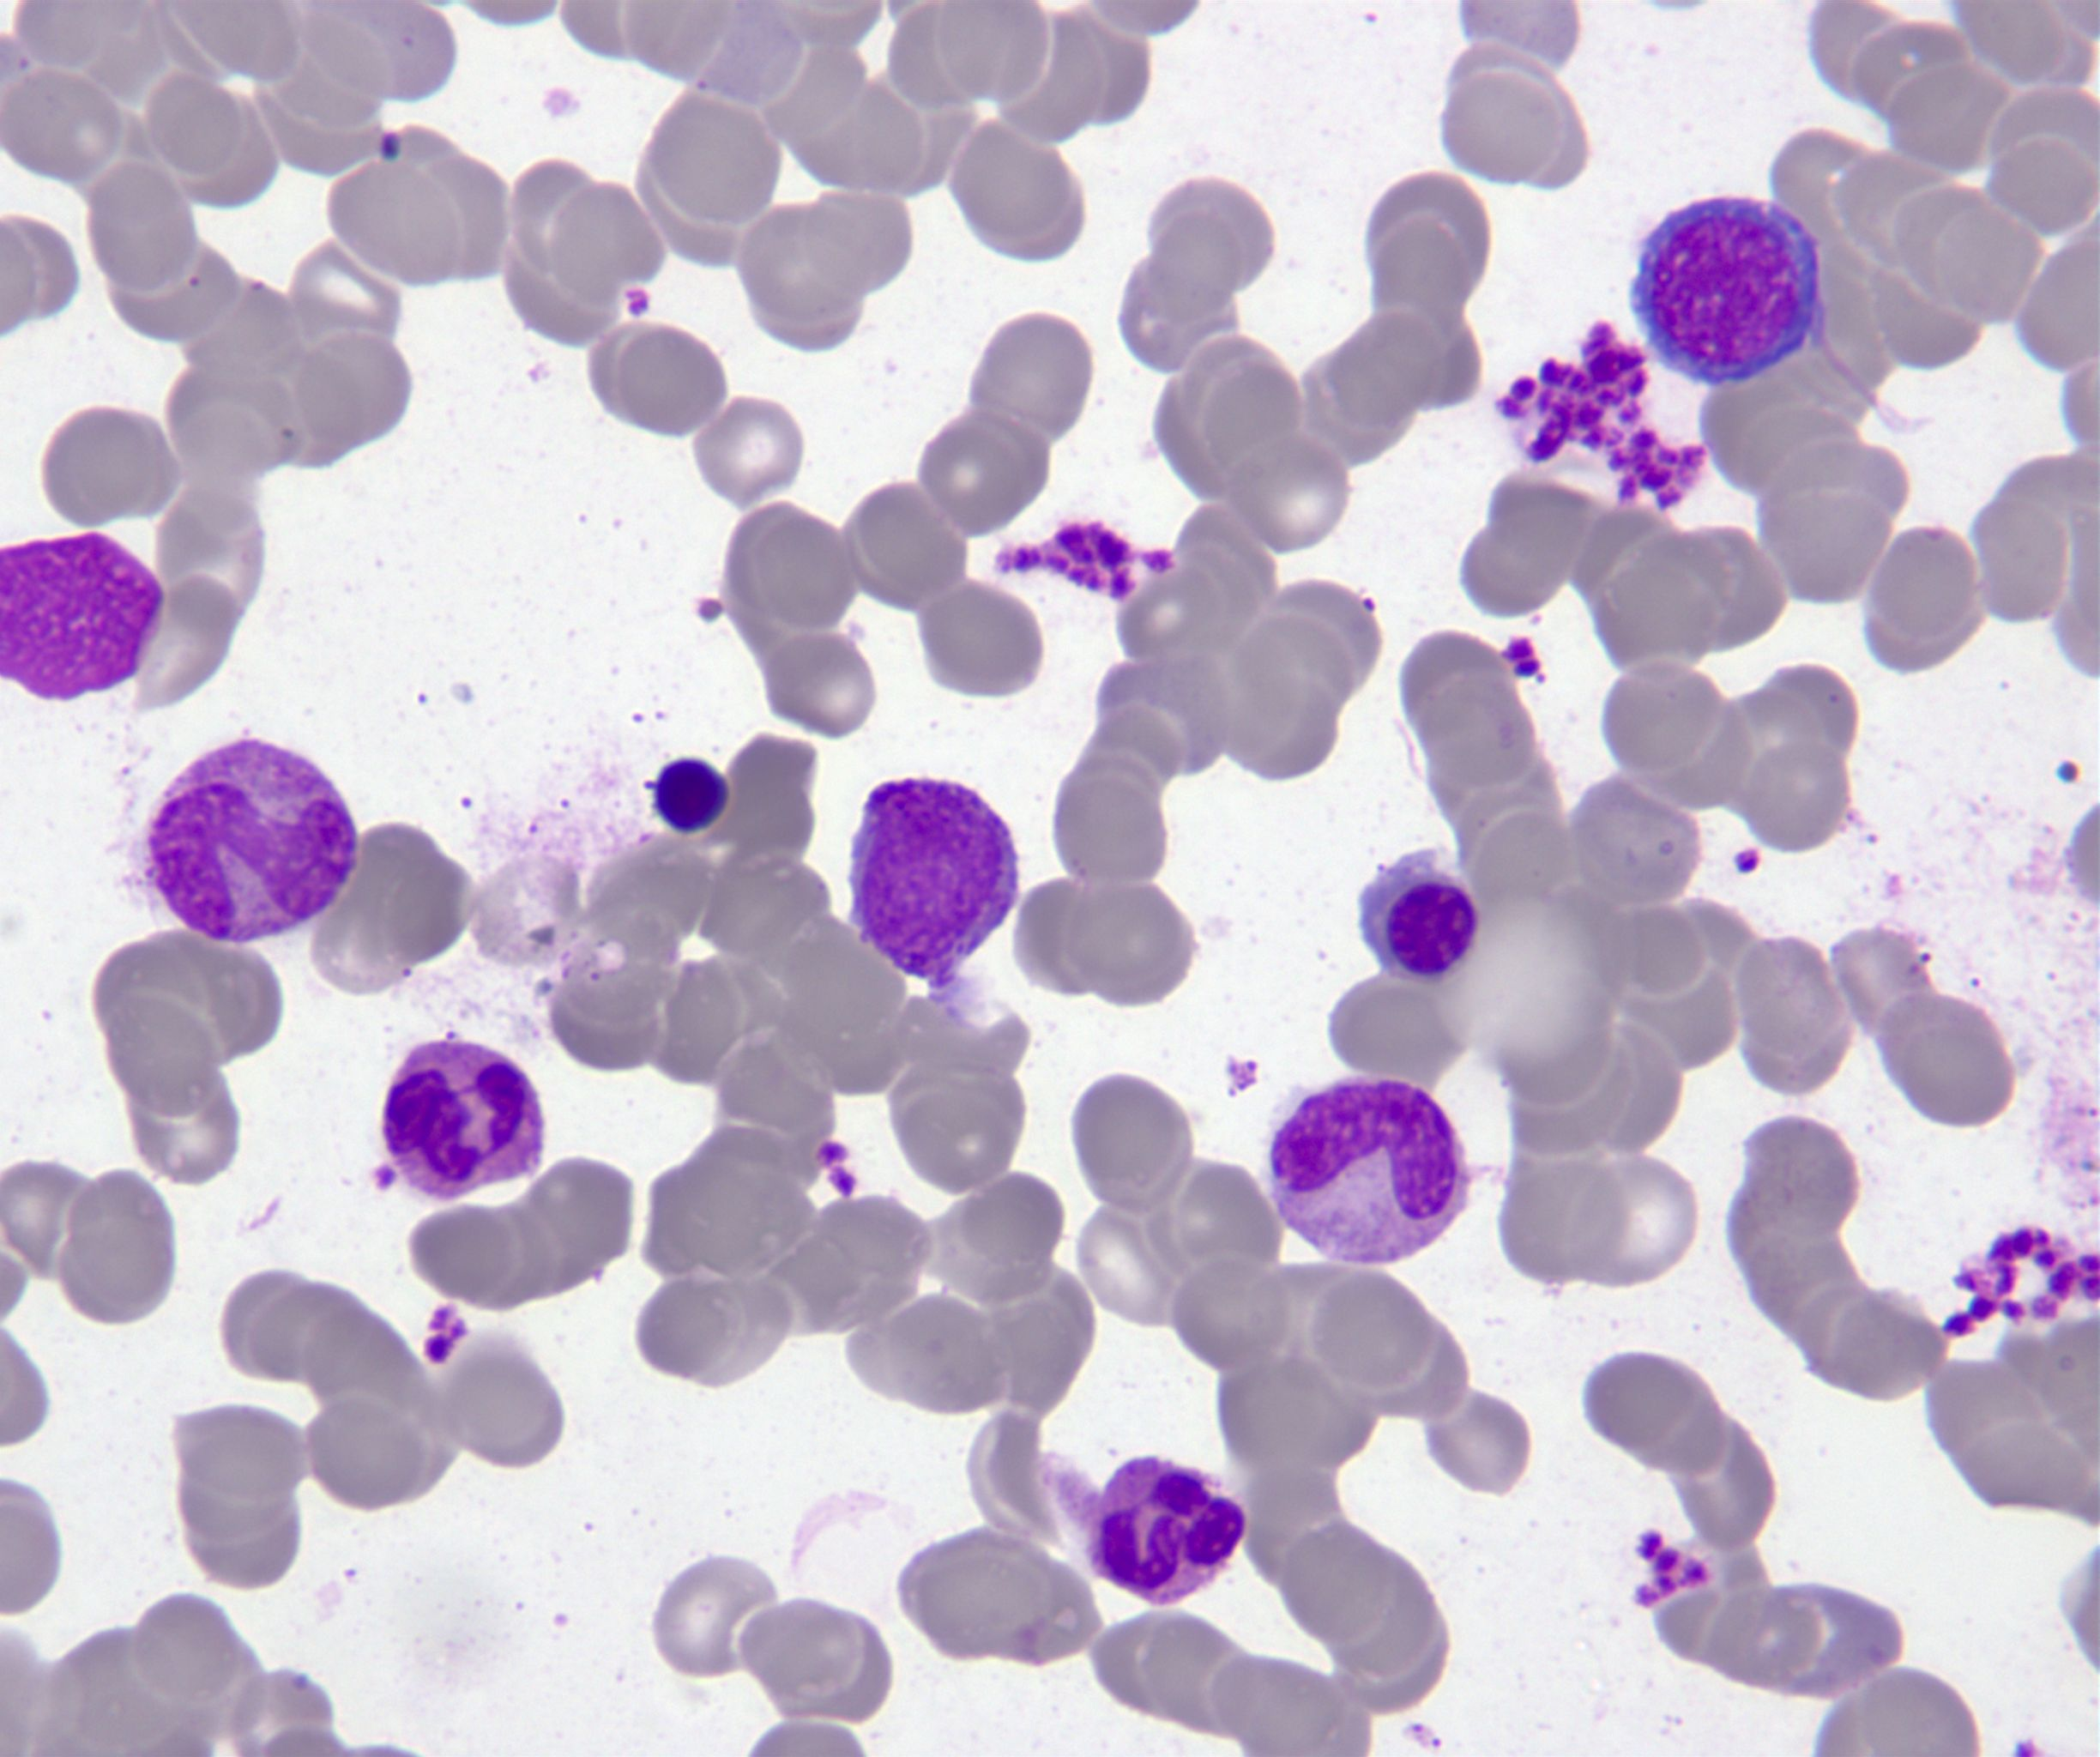23: (1627, 194, 1823, 393)
24: (1353, 844, 1484, 991)
3: (844, 773, 1026, 988)
5: (136, 731, 365, 951), (1261, 1071, 1474, 1274)
6: (377, 1028, 551, 1209), (1078, 1450, 1256, 1612)
x: (0, 525, 173, 708)
